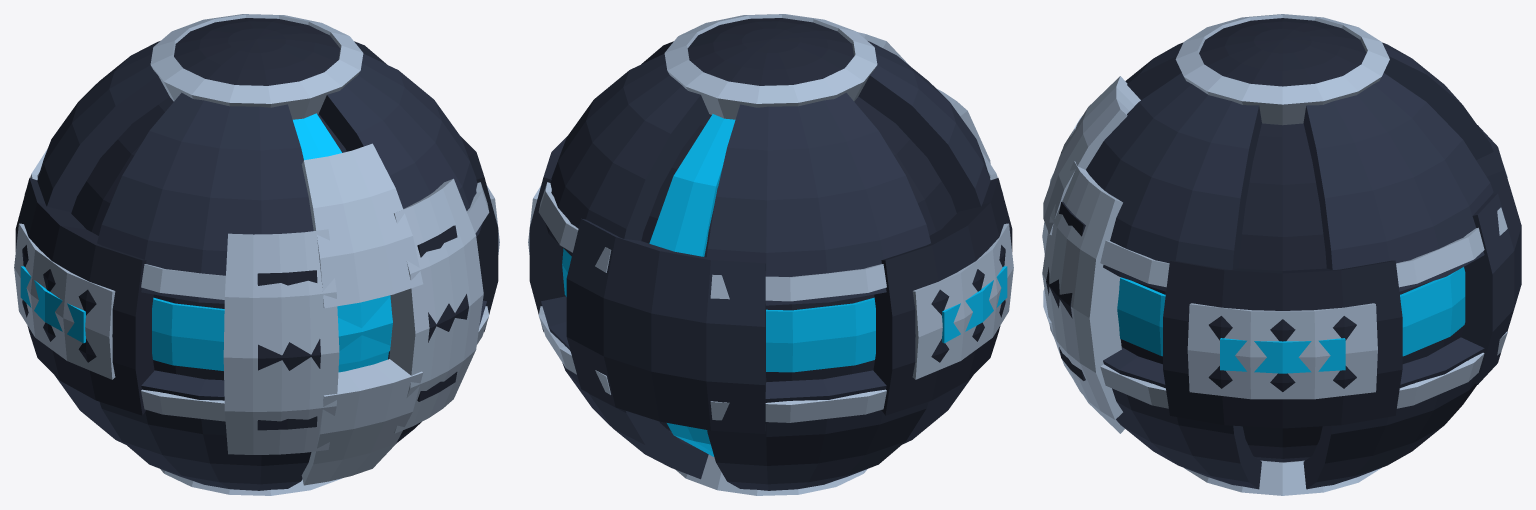
Rendered from Chassis_Rammer_Prototype.obj.
The picture shows the model from 3 angles, left to right: view 1: azimuth 30°, elevation 25°; view 2: azimuth 150°, elevation 25°; view 3: azimuth 270°, elevation 25°; orthographic projection.
Visible parts, largest first — view 1: Rammer_UpperArmor_FrontLeft, Rammer_FrontImpactShield_L, Rammer_FrontImpactShield_R, Rammer_SideBashGuard_L, Rammer_FrontBrowGuard, Rammer_UpperArmor_FrontRight, Rammer_LowerArmor_FrontLeft, Rammer_UpperArmor_RearLeft, Rammer_TopPolarDome, Rammer_FrontBatteringPlow, Rammer_TopTransitionCollar, Rammer_SideBashBezel_L (+12 smaller); view 2: Rammer_RearThrusterShroud, Rammer_UpperArmor_RearLeft, Rammer_UpperArmor_RearRight, Rammer_LowerArmor_RearLeft, Rammer_SideBashGuard_L, Rammer_UpperArmor_FrontLeft, Rammer_TopPolarDome, Rammer_TopTransitionCollar, Rammer_EquatorialCyanChannel, Rammer_MeridionalCyanChannel_Rear, Rammer_InnerCoreHull, Rammer_SideBashBezel_L (+9 smaller); view 3: Rammer_UpperArmor_RearRight, Rammer_UpperArmor_FrontRight, Rammer_SideBashGuard_R, Rammer_InnerCoreHull, Rammer_SideBashBezel_R, Rammer_FrontImpactShield_R, Rammer_LowerArmor_RearRight, Rammer_TopPolarDome, Rammer_LowerArmor_FrontRight, Rammer_RearThrusterShroud, Rammer_TopTransitionCollar, Rammer_EquatorialCyanChannel (+10 smaller).
Part boxes in pixels (box(x1,y1,x2,y2)): Rammer_UpperArmor_FrontLeft: box(97, 92, 313, 303); Rammer_FrontImpactShield_L: box(223, 229, 339, 454); Rammer_FrontImpactShield_R: box(389, 178, 483, 433); Rammer_SideBashGuard_L: box(15, 178, 154, 415); Rammer_FrontBrowGuard: box(301, 143, 423, 308); Rammer_UpperArmor_FrontRight: box(319, 53, 482, 236); Rammer_LowerArmor_FrontLeft: box(99, 370, 311, 490); Rammer_UpperArmor_RearLeft: box(37, 41, 169, 213); Rammer_TopPolarDome: box(174, 18, 340, 85); Rammer_FrontBatteringPlow: box(301, 359, 422, 485); Rammer_TopTransitionCollar: box(150, 14, 363, 119); Rammer_SideBashBezel_L: box(14, 223, 115, 379); Rammer_RearThrusterShroud: box(566, 218, 766, 433); Rammer_UpperArmor_RearLeft: box(706, 92, 930, 305); Rammer_UpperArmor_RearRight: box(545, 53, 708, 256); Rammer_LowerArmor_RearLeft: box(707, 370, 928, 490); Rammer_SideBashGuard_L: box(873, 178, 1012, 415); Rammer_UpperArmor_FrontLeft: box(858, 41, 990, 212); Rammer_TopPolarDome: box(687, 18, 853, 85); Rammer_TopTransitionCollar: box(664, 14, 877, 119); Rammer_EquatorialCyanChannel: box(562, 248, 875, 372); Rammer_MeridionalCyanChannel_Rear: box(649, 114, 735, 456); Rammer_InnerCoreHull: box(641, 96, 956, 431); Rammer_SideBashBezel_L: box(912, 223, 1013, 379); Rammer_UpperArmor_RearRight: box(1303, 73, 1493, 291); Rammer_UpperArmor_FrontRight: box(1086, 73, 1261, 291); Rammer_SideBashGuard_R: box(1163, 260, 1402, 428); Rammer_InnerCoreHull: box(1120, 123, 1464, 458); Rammer_SideBashBezel_R: box(1187, 303, 1377, 399); Rammer_FrontImpactShield_R: box(1042, 161, 1122, 419); Rammer_LowerArmor_RearRight: box(1303, 337, 1484, 489); Rammer_TopPolarDome: box(1199, 18, 1366, 86); Rammer_LowerArmor_FrontRight: box(1103, 347, 1261, 489); Rammer_RearThrusterShroud: box(1461, 125, 1521, 384); Rammer_TopTransitionCollar: box(1175, 14, 1389, 125); Rammer_EquatorialCyanChannel: box(1117, 267, 1465, 356).
Bounding box in the file's own units: 5.92 × 5.76 × 5.81.
